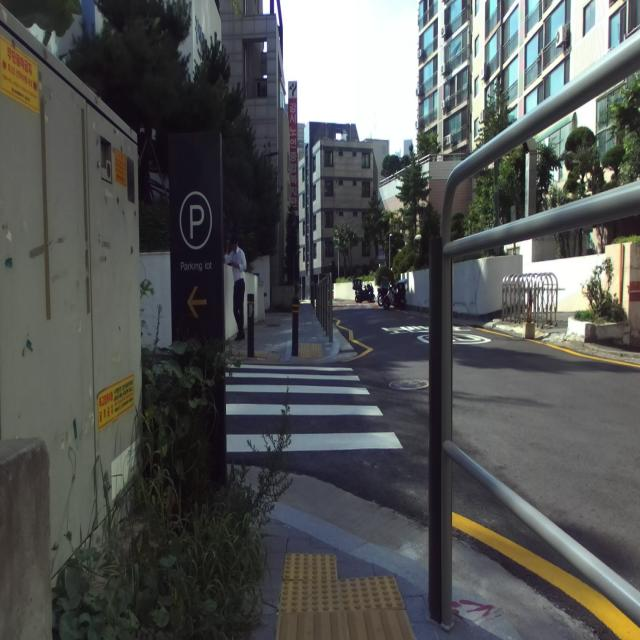횡단보도: (225, 364, 403, 452)
